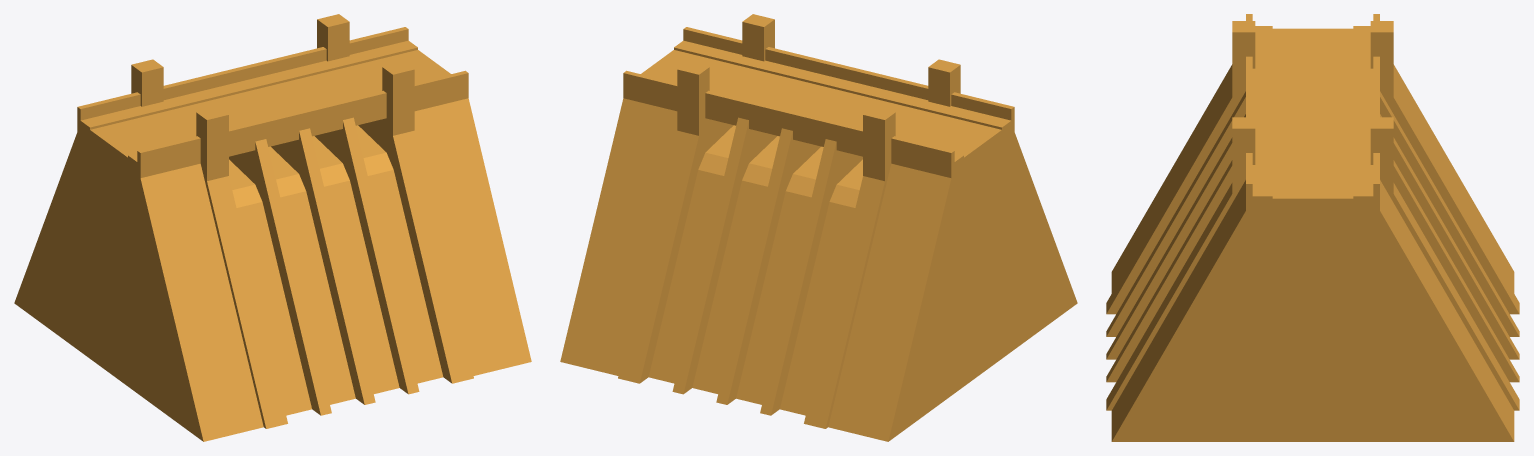
The model's file is dam.glb.
The picture shows the model from 3 angles, left to right: view 1: azimuth 30°, elevation 25°; view 2: azimuth 150°, elevation 25°; view 3: azimuth 270°, elevation 25°; orthographic projection. The views are drawn at different scales.
Visible parts, largest first — view 1: dam; view 2: dam; view 3: dam.
Boxes of the visible parts, bbox=[...] form: dam: bbox=[14, 14, 531, 441]; dam: bbox=[560, 14, 1077, 441]; dam: bbox=[1106, 14, 1519, 441].
Bounding box in the file's own units: 30 × 23.2 × 30.8.
